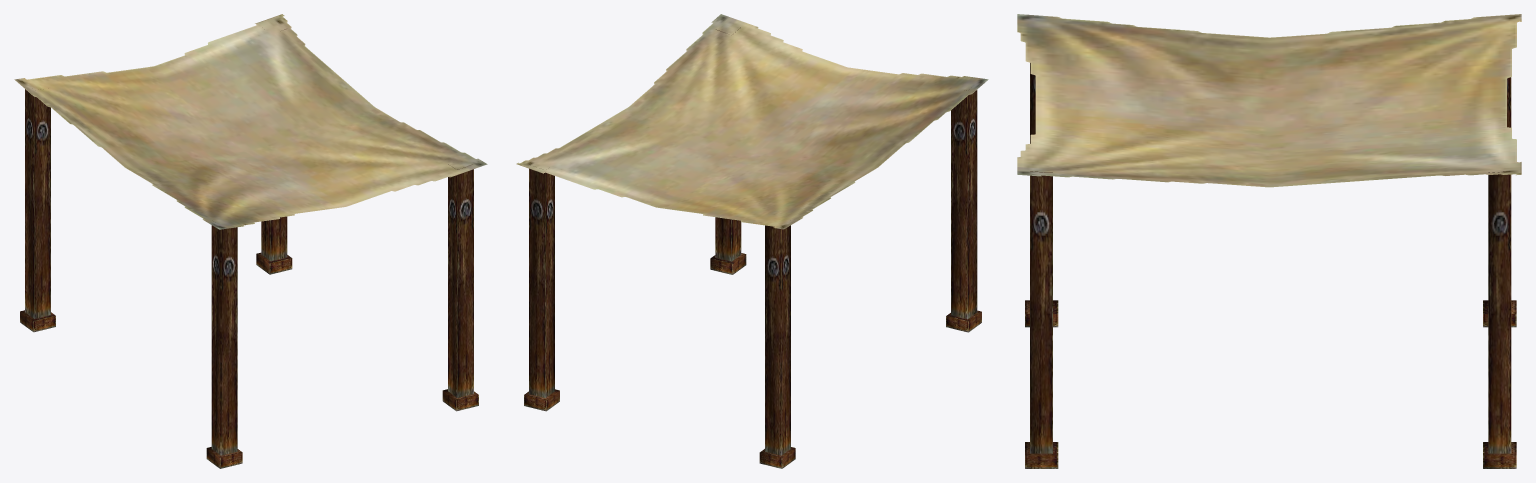
Rendered from cj_resta01_tent.glb.
The picture shows the model from 3 angles, left to right: view 1: azimuth 30°, elevation 25°; view 2: azimuth 150°, elevation 25°; view 3: azimuth 270°, elevation 25°; orthographic projection. The views are drawn at different scales.
Visible parts, largest first — view 1: CJ_resta01_tentup, CJ_resta01_tent; view 2: CJ_resta01_tentup, CJ_resta01_tent; view 3: CJ_resta01_tentup, CJ_resta01_tent.
Boxes of the visible parts, x1,y1,x2,y2 form: CJ_resta01_tentup: (14, 14, 487, 229); CJ_resta01_tent: (20, 29, 478, 468); CJ_resta01_tentup: (516, 14, 988, 229); CJ_resta01_tent: (524, 27, 981, 468); CJ_resta01_tentup: (1017, 14, 1521, 187); CJ_resta01_tent: (1025, 63, 1516, 468).
Size of the model in its own units: 3.25 by 2.81 by 4.31.
2 materials, 2 textured.
